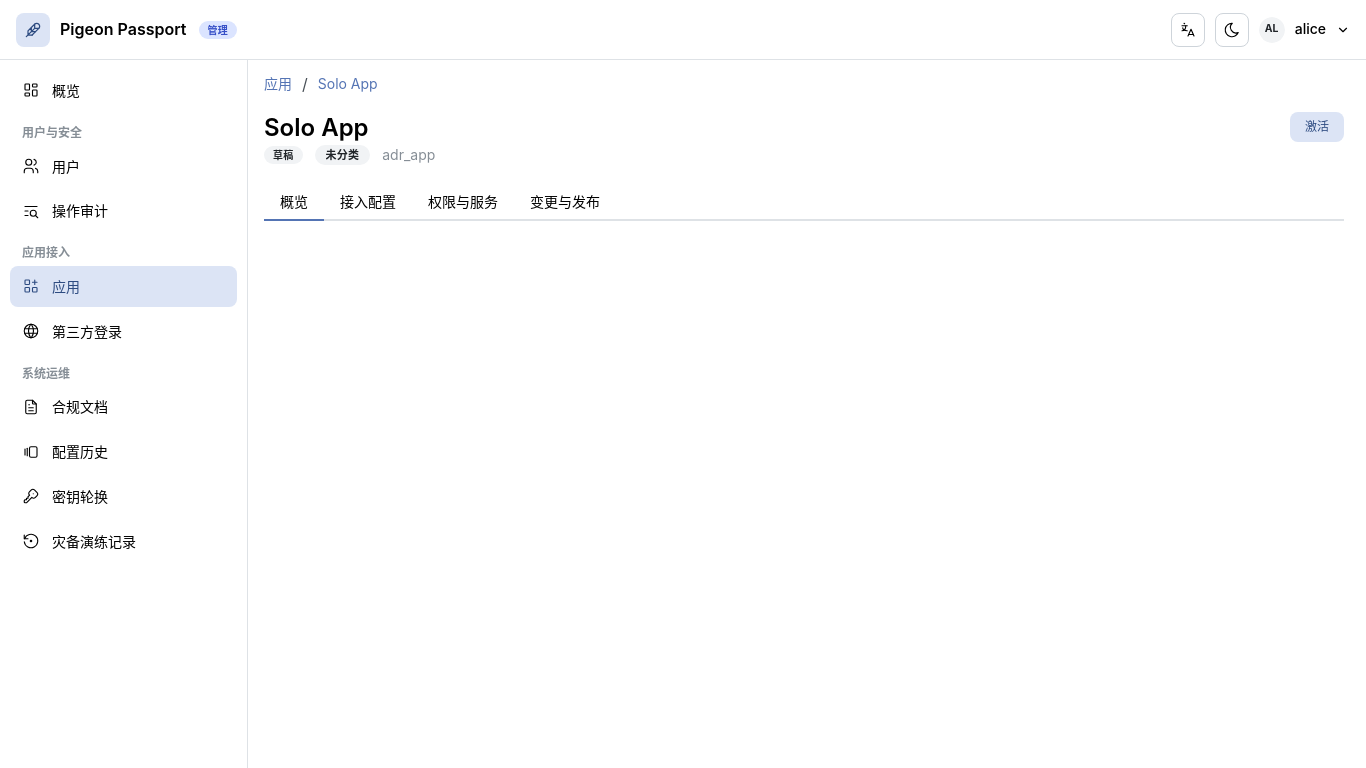
Test: admin resource detail page › activates an application immediately without an operation note or approval
What coordinates should you click on to do the following:
click the button "激活"
I would click on:
 (1317, 127)
Its box is [1290,112,1344,142].
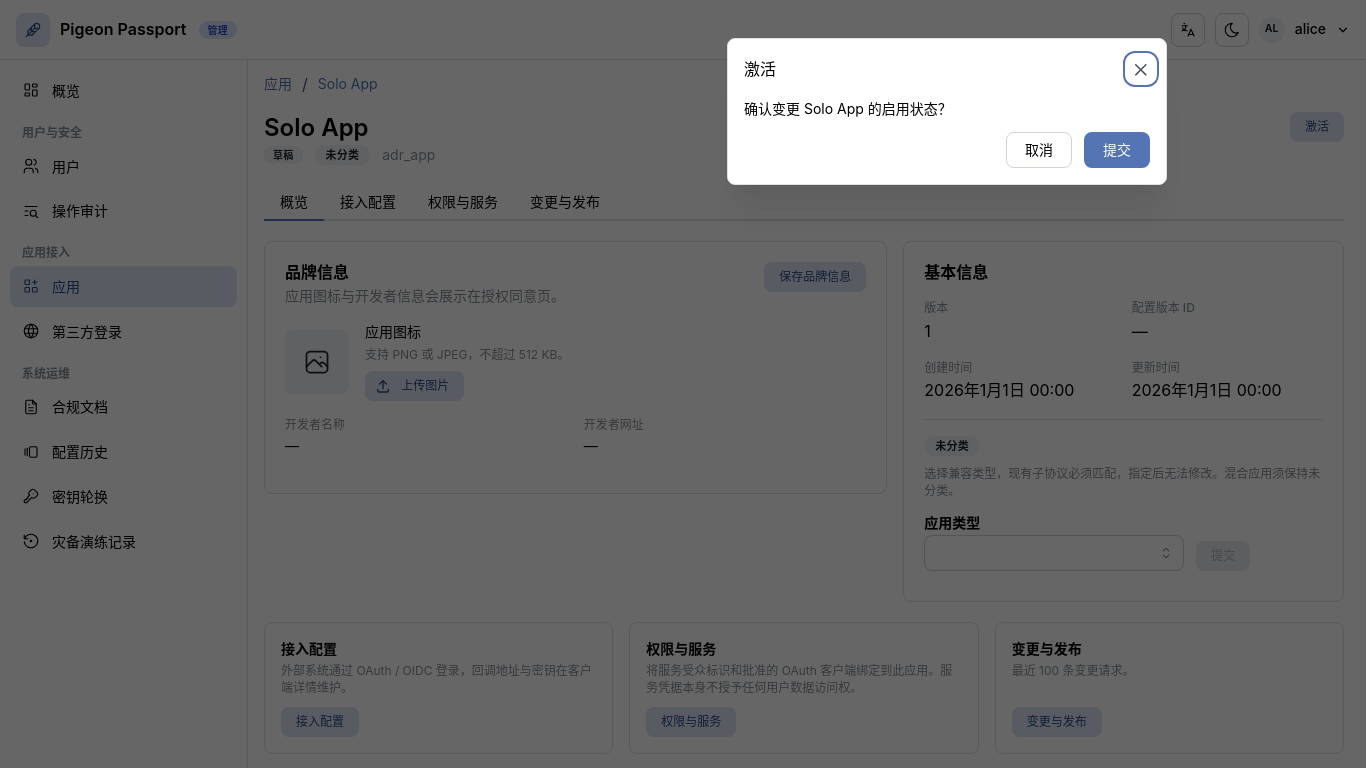
What coordinates should you click on to do the following:
click the button "提交"
I would click on:
 (1117, 150)
Its box is [1084,132,1150,168].
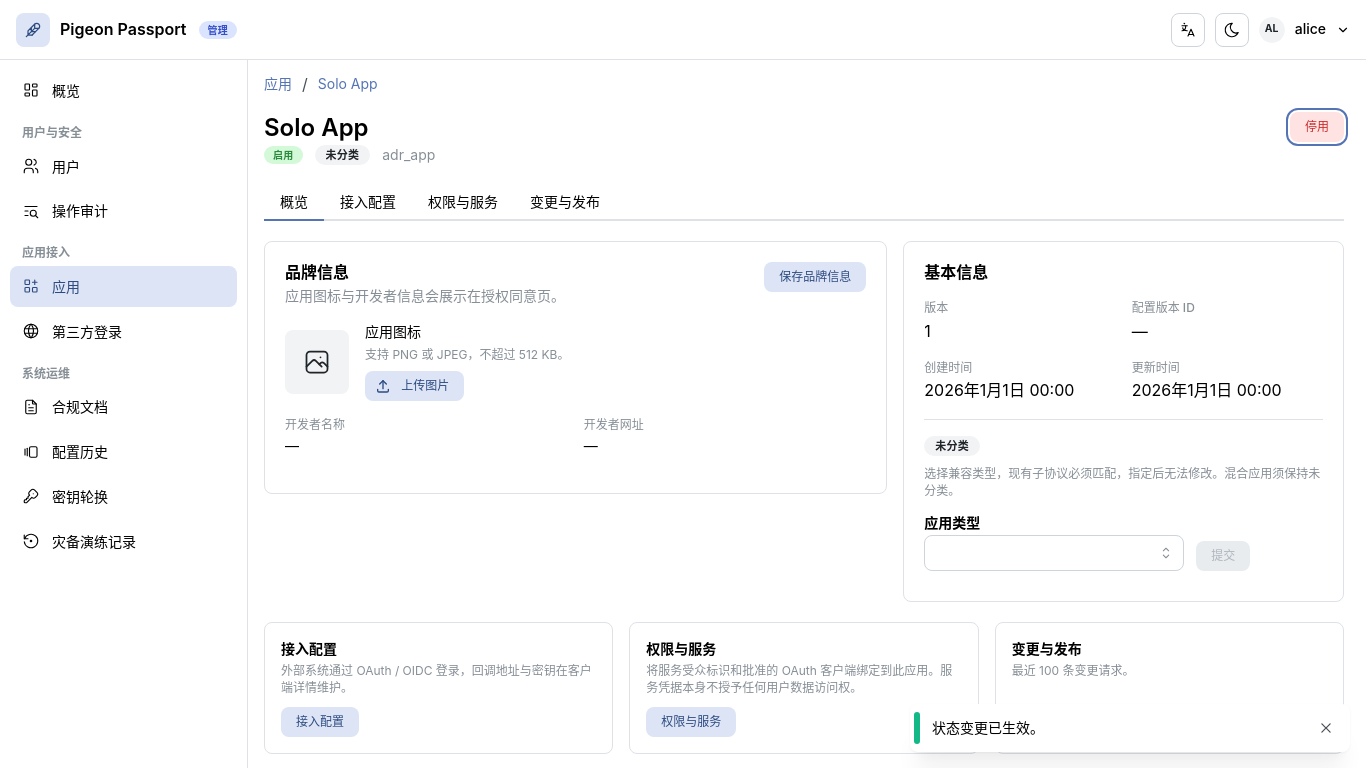
Expected: the text "状态变更已生效。" is shown, [932,719,1044,736]
